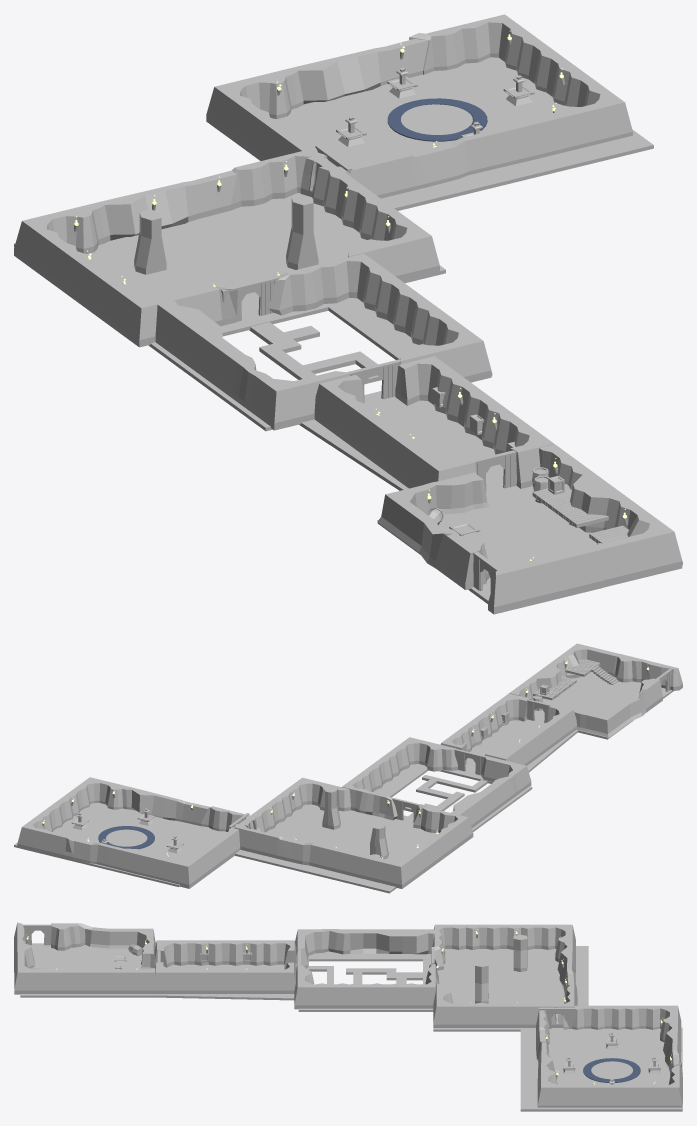
File: Dungeon_Complete.fbx
3 renders of one model, top to bottom at view 1: azimuth 30°, elevation 25°; view 2: azimuth 150°, elevation 25°; view 3: azimuth 270°, elevation 25°, orthographic. The views are drawn at different scales.
Parts seen in each view (by area): view 1: Dungeon_Walls, Floor, Center_Altar, Dungeon_Corridor, Pillar, Pillar.001, Elevate_Floor_02, Door_02, Door_03, Door_04; view 2: Dungeon_Walls, Floor, Dungeon_Corridor, Center_Altar, Pillar, Pillar.001, Door_03, Elevate_Floor_02; view 3: Dungeon_Walls, Floor, Center_Altar, Dungeon_Corridor, Pillar, Pillar.001, Door_01, Door_05.
Part boxes in pixels (x1,y1,x2,y2): Dungeon_Walls: [14, 14, 682, 614]; Floor: [14, 57, 682, 603]; Center_Altar: [387, 98, 487, 141]; Dungeon_Corridor: [249, 322, 381, 383]; Pillar: [286, 194, 318, 269]; Pillar.001: [134, 209, 166, 274]; Elevate_Floor_02: [532, 484, 608, 527]; Door_02: [221, 276, 279, 321]; Door_03: [347, 359, 400, 403]; Door_04: [473, 450, 516, 492]; Dungeon_Walls: [17, 643, 682, 888]; Floor: [14, 672, 673, 893]; Dungeon_Corridor: [403, 775, 487, 817]; Center_Altar: [98, 826, 154, 849]; Pillar: [322, 786, 340, 829]; Pillar.001: [370, 823, 388, 859]; Door_03: [454, 749, 484, 775]; Elevate_Floor_02: [533, 676, 576, 700]; Dungeon_Walls: [14, 922, 682, 1109]; Floor: [20, 943, 682, 1111]; Center_Altar: [583, 1058, 640, 1082]; Dungeon_Corridor: [309, 966, 422, 984]; Pillar: [475, 961, 488, 1003]; Pillar.001: [513, 934, 527, 971]; Door_01: [538, 1007, 575, 1028]; Door_05: [23, 924, 51, 945].
Bounding box in the file's own units: 1381 × 151 × 2316.
